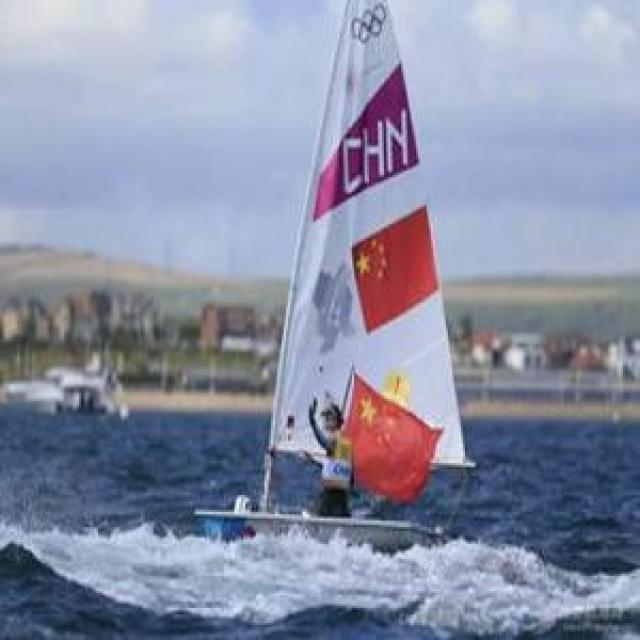sailboat: (192, 0, 467, 544)
